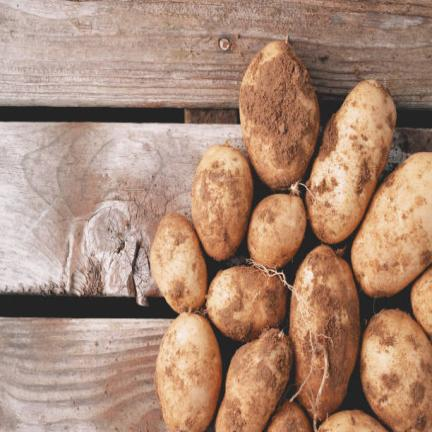potato: (306, 80, 395, 242), (289, 245, 359, 418), (239, 42, 319, 189), (352, 152, 431, 297), (360, 309, 431, 431), (215, 329, 292, 431), (155, 312, 221, 431), (192, 145, 253, 260), (207, 266, 286, 341), (150, 214, 206, 312), (248, 195, 306, 267), (318, 410, 385, 431), (267, 400, 311, 431), (411, 267, 431, 335)
